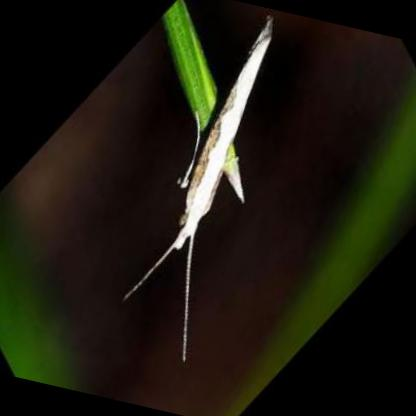plutella: (119, 19, 278, 371)
